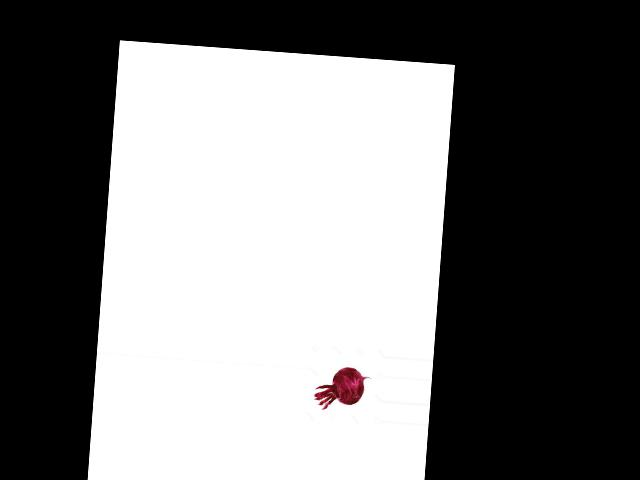beet: (313, 364, 372, 412)
